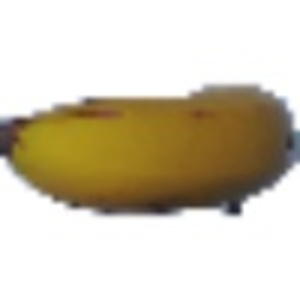banana: (1, 70, 296, 223)
